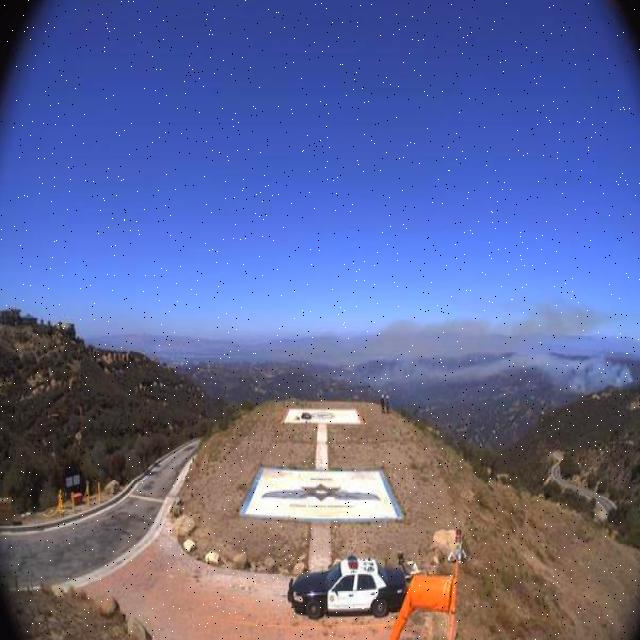smoke: (400, 319, 630, 405)
